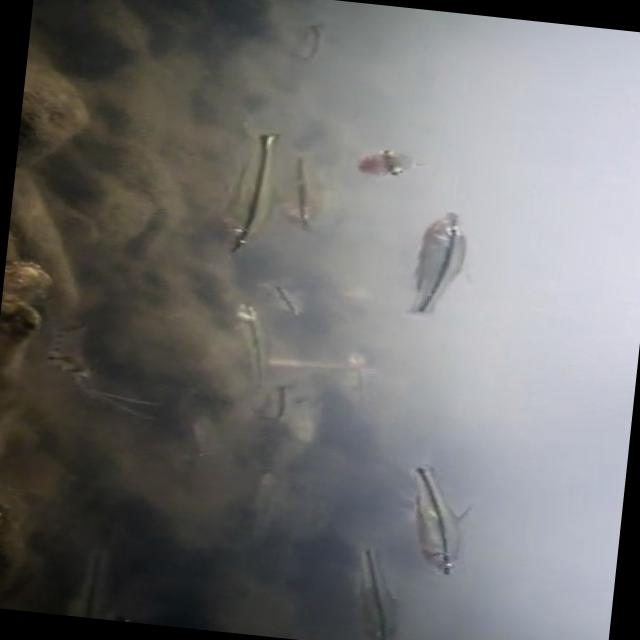Cakil Baligi: (210, 112, 288, 256), (395, 450, 477, 578), (398, 205, 473, 322)
